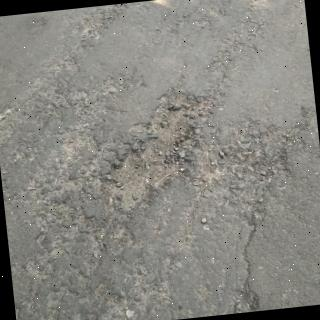pothole: (106, 89, 212, 214), (211, 134, 286, 224)
